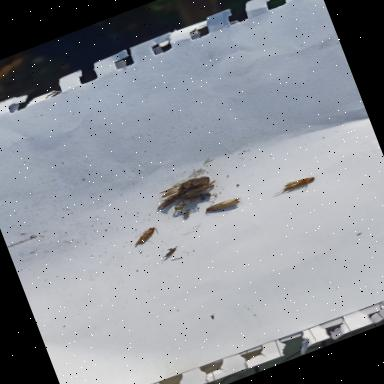pbw: (204, 192, 242, 216), (281, 172, 320, 194), (131, 224, 161, 246)
